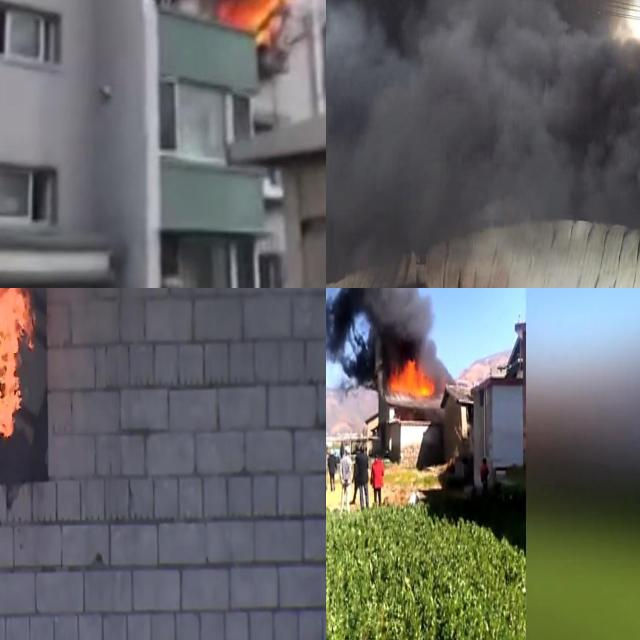fire: (0, 288, 36, 439), (212, 0, 294, 43), (389, 361, 435, 401)
smoke: (326, 0, 640, 210), (327, 288, 435, 357)
